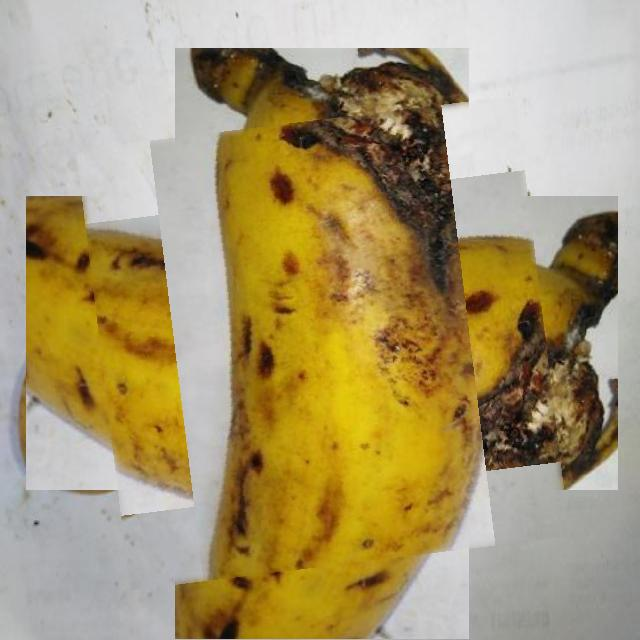Podre: (89, 109, 556, 577)
